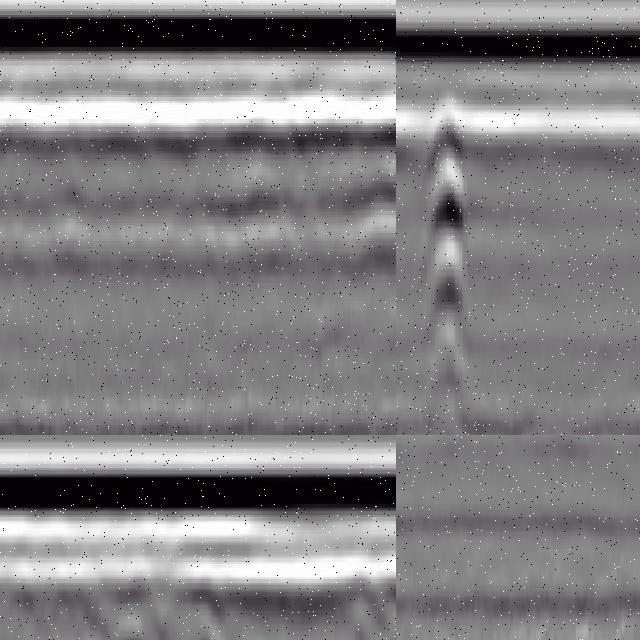crack: (432, 88, 461, 429)
loose: (84, 544, 241, 640)
